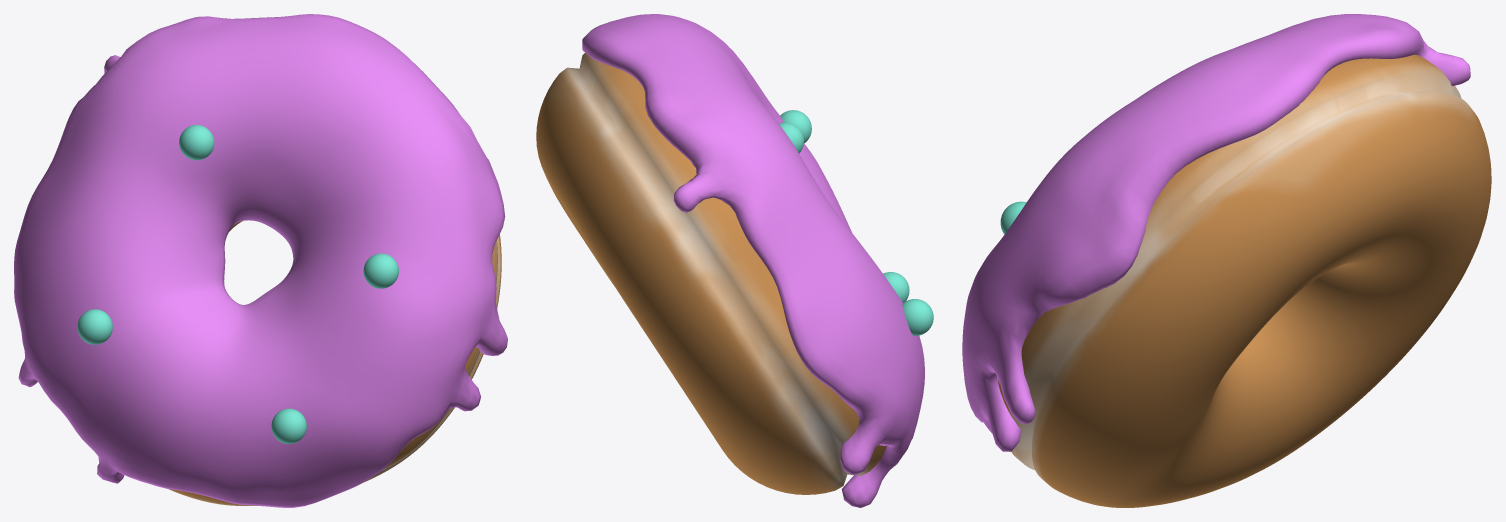
Rendered from donut2.gltf.
3 views of the same model, side by side, from view 1: azimuth 30°, elevation 25°; view 2: azimuth 150°, elevation 25°; view 3: azimuth 270°, elevation 25° (orthographic). The views are drawn at different scales.
Visible parts, largest first — view 1: iceing, donut, Sphere, Sphere.003, Sphere.002, Sphere.001; view 2: donut, iceing, Sphere, Sphere.002, Sphere.003; view 3: donut, iceing.
Part boxes in pixels (x1,y1,x2,y2): iceing: (14, 14, 507, 507); donut: (168, 221, 501, 505); Sphere: (77, 309, 112, 344); Sphere.003: (271, 408, 306, 443); Sphere.002: (363, 253, 398, 288); Sphere.001: (179, 125, 214, 160); donut: (536, 53, 886, 494); iceing: (582, 14, 924, 507); Sphere: (902, 299, 933, 335); Sphere.002: (780, 110, 811, 143); Sphere.003: (883, 272, 909, 302); donut: (998, 54, 1491, 507); iceing: (962, 14, 1470, 451).
Bounding box in the file's own units: 0.0903 × 0.0937 × 0.0913.
3 materials, 1 textured.
